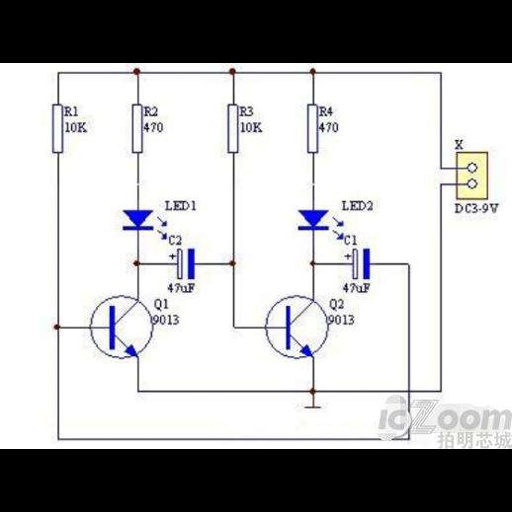firstled: (114, 203, 167, 243), (293, 205, 344, 245)
firstresistance: (301, 99, 320, 156), (222, 100, 240, 157), (127, 101, 144, 155), (49, 101, 65, 157)
npn: (102, 300, 140, 359), (278, 299, 315, 357)
